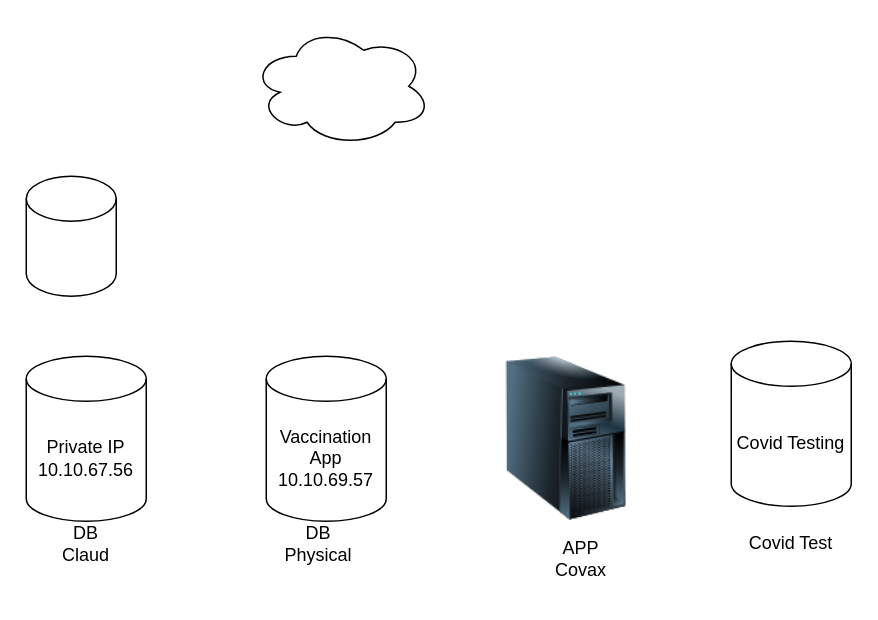
This 878x620 diagram has some shape labels left out. The shapes that lost their labels are listed below. From the top down, each one's box as (x1, y1, x2, y2) in pixels, then its label:
(250, 25, 431, 146): Proxy
(25, 175, 116, 296): NIDA
